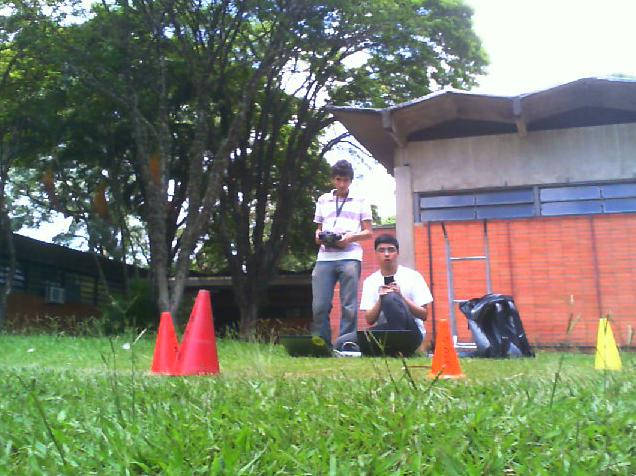0 cone: (168, 290, 220, 376), (426, 319, 465, 379), (150, 313, 178, 373), (594, 317, 622, 370)
